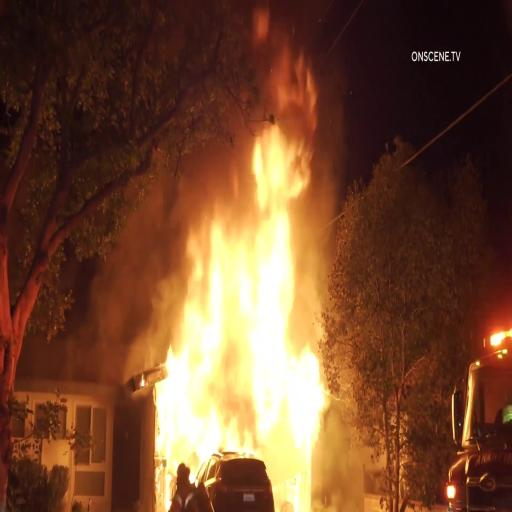fire: (264, 11, 318, 410), (207, 206, 263, 431), (170, 195, 207, 441), (147, 320, 198, 454), (271, 417, 325, 502)
smoke: (126, 206, 175, 321), (183, 128, 260, 198), (82, 282, 118, 378)
